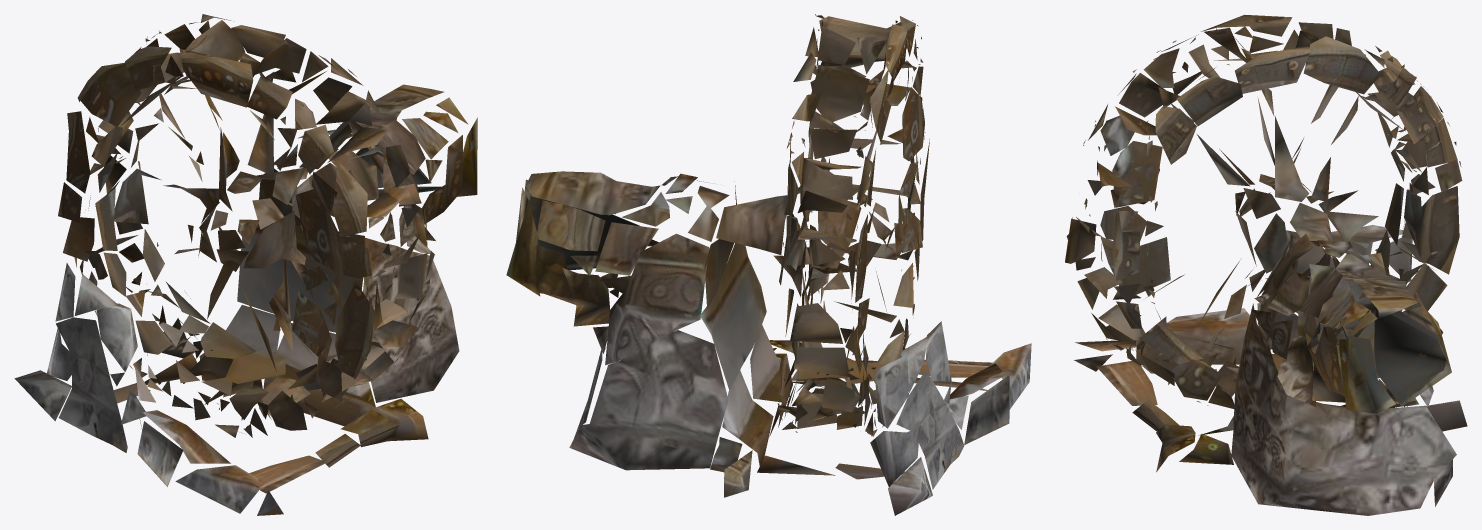
File: prop_vaelor_turbine_wheel_LOD3.glb
3 views of the same model, side by side, from view 1: azimuth 30°, elevation 25°; view 2: azimuth 150°, elevation 25°; view 3: azimuth 270°, elevation 25° (orthographic). The views are drawn at different scales.
Visible parts, largest first — view 1: tripo_node_53d2a571-26fc-474f-be46-1b7faa536caf; view 2: tripo_node_53d2a571-26fc-474f-be46-1b7faa536caf; view 3: tripo_node_53d2a571-26fc-474f-be46-1b7faa536caf.
Boxes of the visible parts, box(x1,y1,x2,y2) form: tripo_node_53d2a571-26fc-474f-be46-1b7faa536caf: box(14, 14, 477, 515); tripo_node_53d2a571-26fc-474f-be46-1b7faa536caf: box(506, 14, 1031, 515); tripo_node_53d2a571-26fc-474f-be46-1b7faa536caf: box(1065, 14, 1467, 515).
Size of the model in its own units: 0.9846 by 0.8663 by 0.8355.
1 material, 1 textured.
